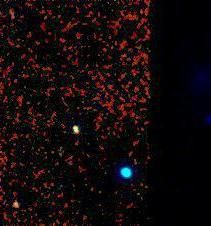star: (3, 194, 33, 224)
